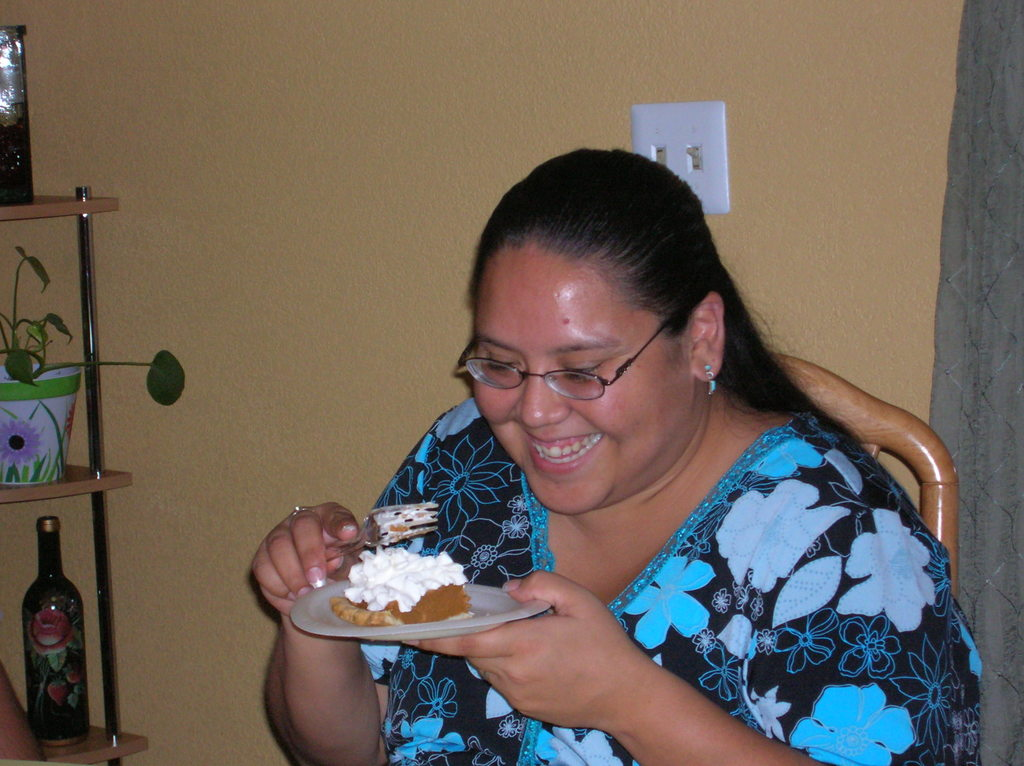cake: (324, 545, 475, 625)
